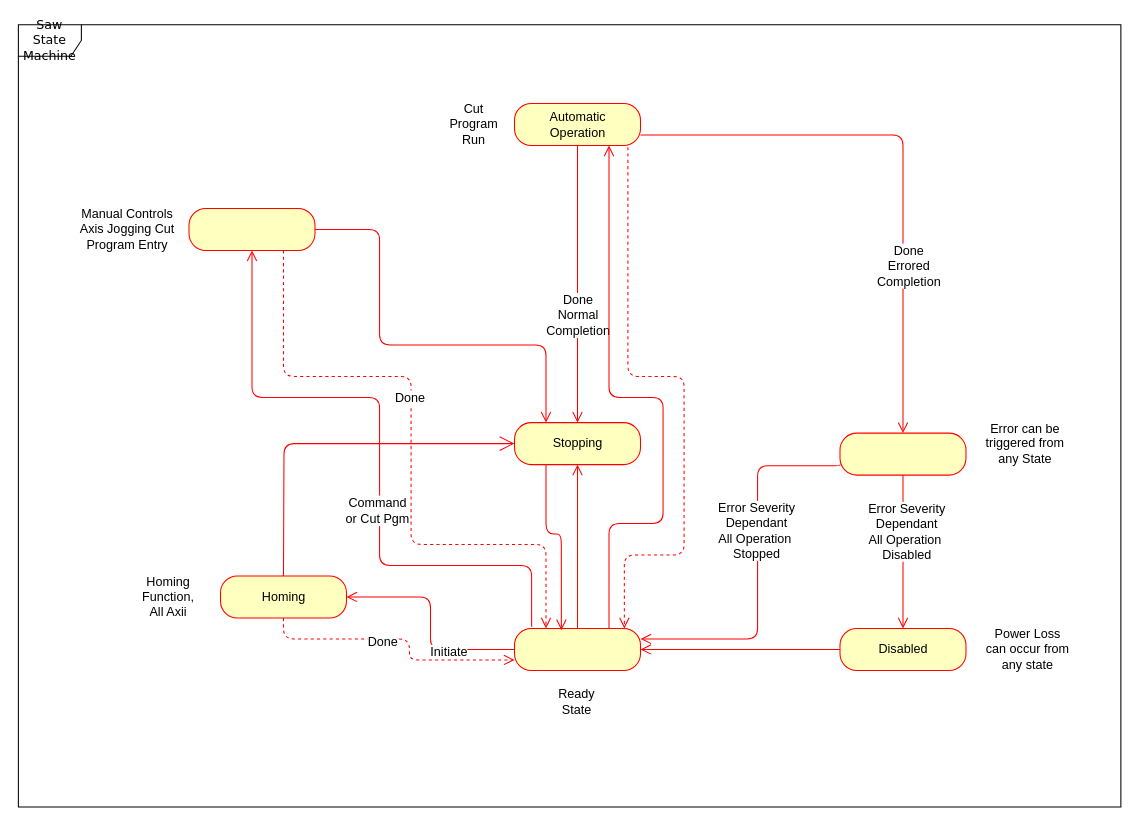
The diagram is 1139 pixels wide and 825 high, and some of its shapes have lost their labels. The shapes that lost their labels are listed below. From the top down, each one's centre as x and y in pixels, then its label:
(251,228): Discrete Operation
(902,453): Error Stop
(576,648): Standstill
